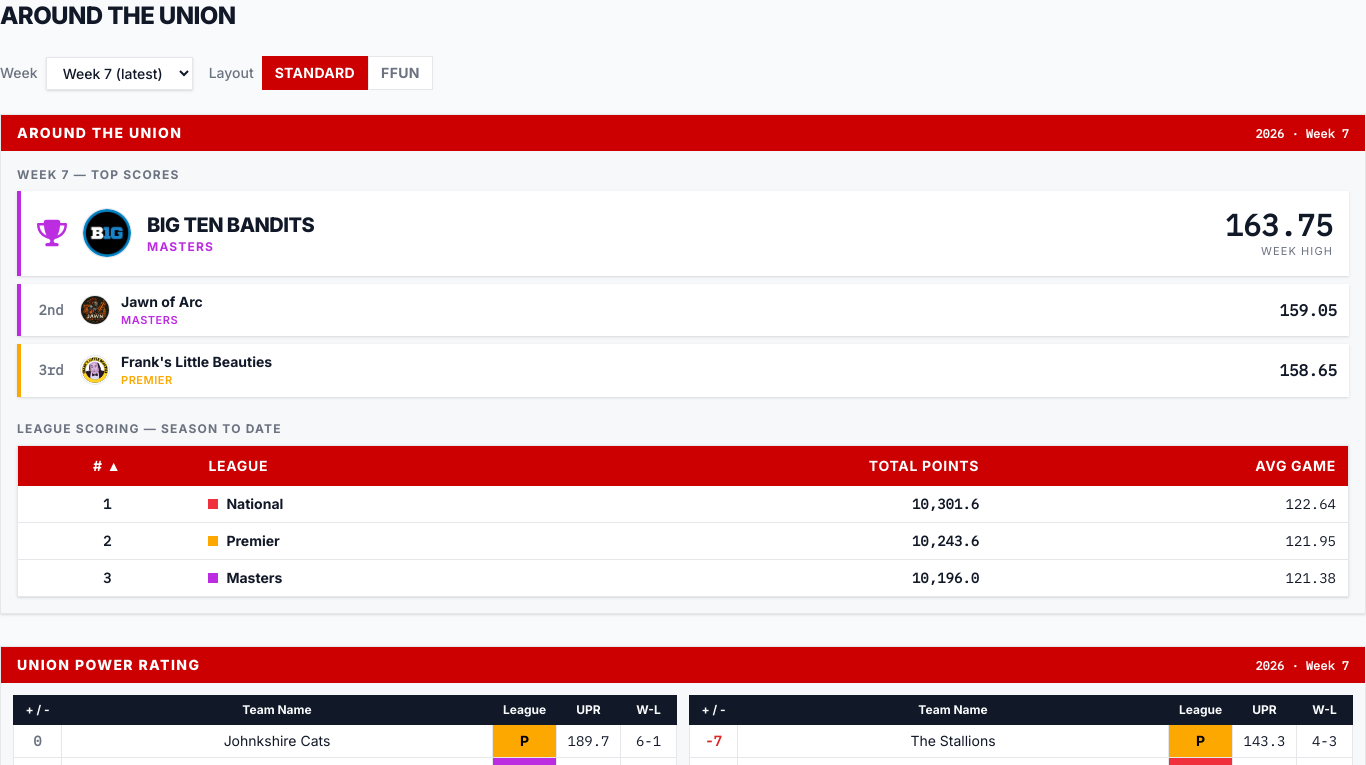
it: lets an author step back to an earlier week when more than one has been played
Expected: the 1st heading "Around the Union" is shown, [0,1,235,30]
Select "Week 1" in the dropdown at [119, 73], box [46,56,193,90]
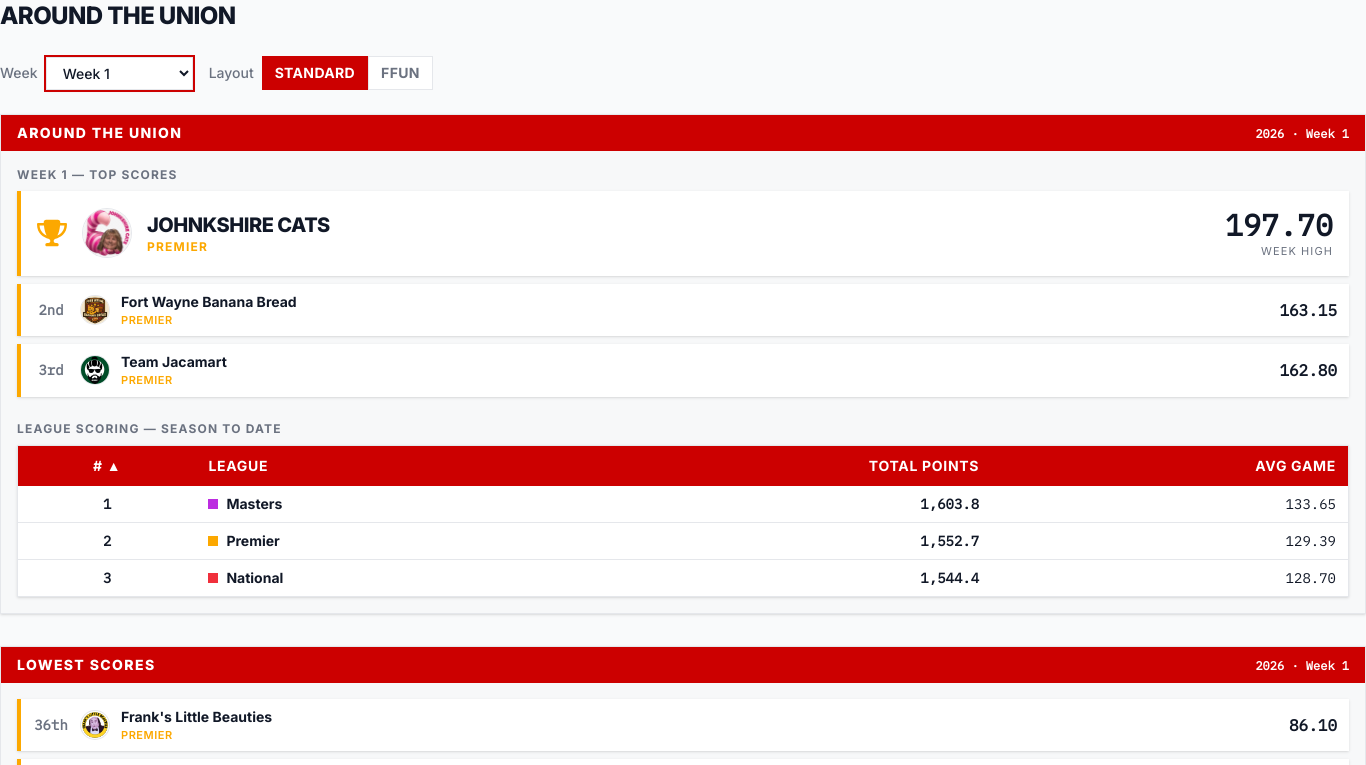
Now the heading "Week 1 — Top Scores" is shown, box [17,167,178,182]
